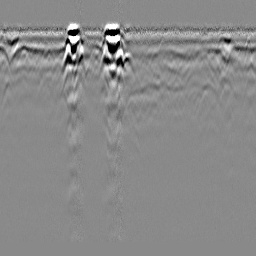cavity: (117, 51, 140, 82)
